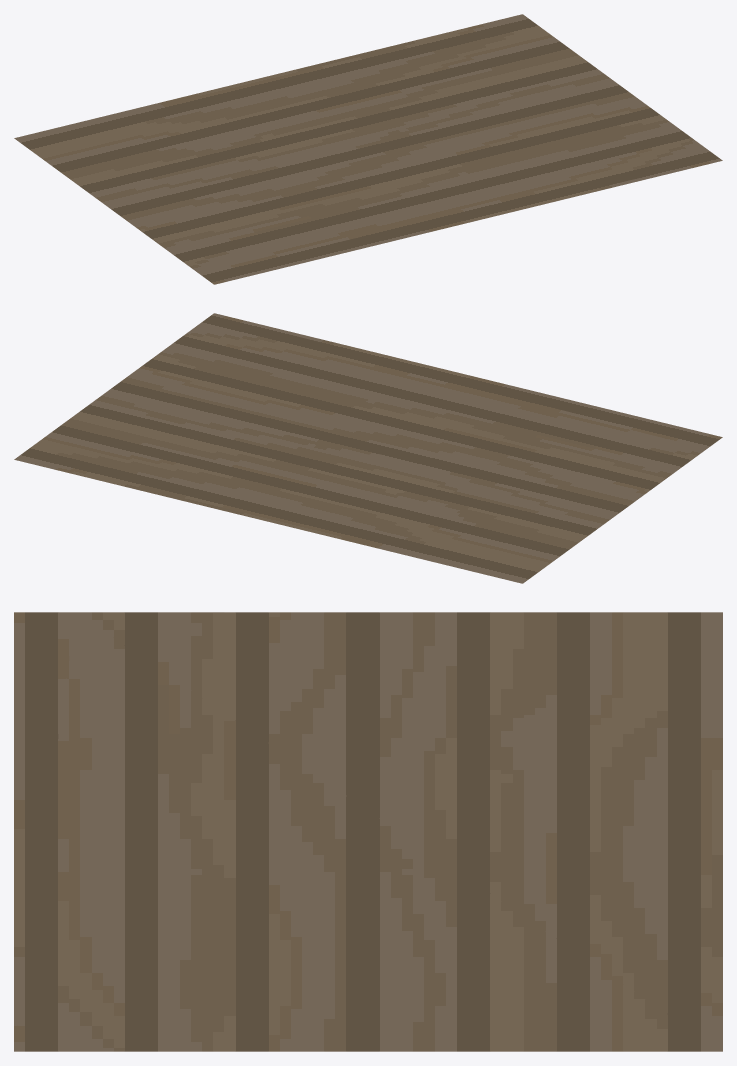
Rendered from kd_stage_135c43_4_16_bounded_piece_17.glb.
3 renders of one model, top to bottom at view 1: azimuth 30°, elevation 25°; view 2: azimuth 150°, elevation 25°; view 3: azimuth 270°, elevation 25°, orthographic. The views are drawn at different scales.
Parts seen in each view (by area): view 1: kd_stage_135c43_4_16_bounded_piece_17; view 2: kd_stage_135c43_4_16_bounded_piece_17; view 3: kd_stage_135c43_4_16_bounded_piece_17.
Boxes of the visible parts, bbox=[...] form: kd_stage_135c43_4_16_bounded_piece_17: bbox=[14, 14, 722, 284]; kd_stage_135c43_4_16_bounded_piece_17: bbox=[14, 313, 722, 583]; kd_stage_135c43_4_16_bounded_piece_17: bbox=[14, 612, 722, 1051].
Size of the model in its own units: 0.1704 by 0 by 0.1162.
Materials: 1 (1 with a texture image).
